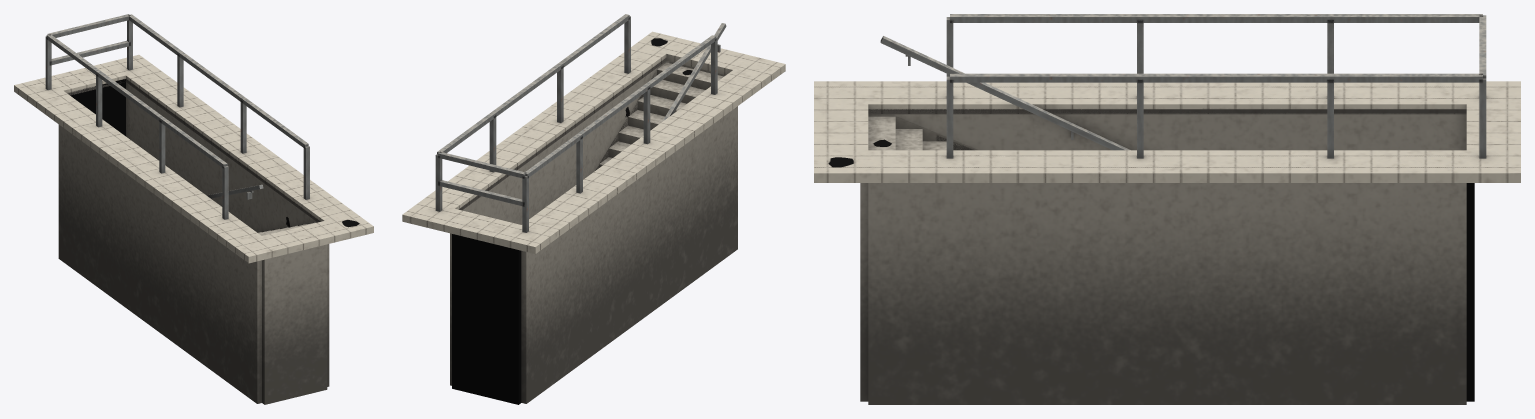
File: stairs_down.fbx
The picture shows the model from 3 angles, left to right: view 1: azimuth 30°, elevation 25°; view 2: azimuth 150°, elevation 25°; view 3: azimuth 270°, elevation 25°; orthographic projection. The views are drawn at different scales.
Visible parts, largest first — view 1: Body; view 2: Body; view 3: Body.
Part boxes in pixels (x1,y1,x2,y2): Body: (14,14,373,404); Body: (402,14,785,404); Body: (814,14,1520,404).
Size of the model in its own units: 8 by 13.53 by 26.
1 material, 1 textured.
